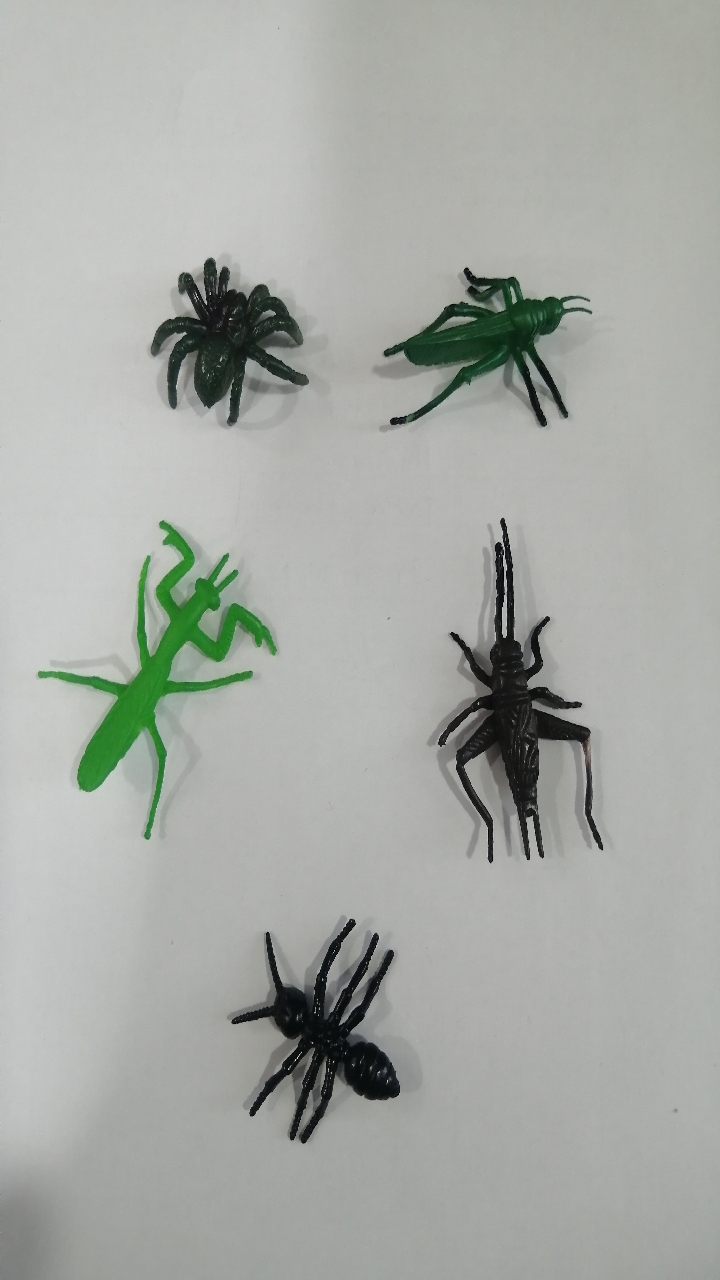intruso: (371, 495, 637, 895), (34, 509, 283, 869), (346, 197, 629, 483), (189, 885, 464, 1154), (104, 220, 334, 483)
